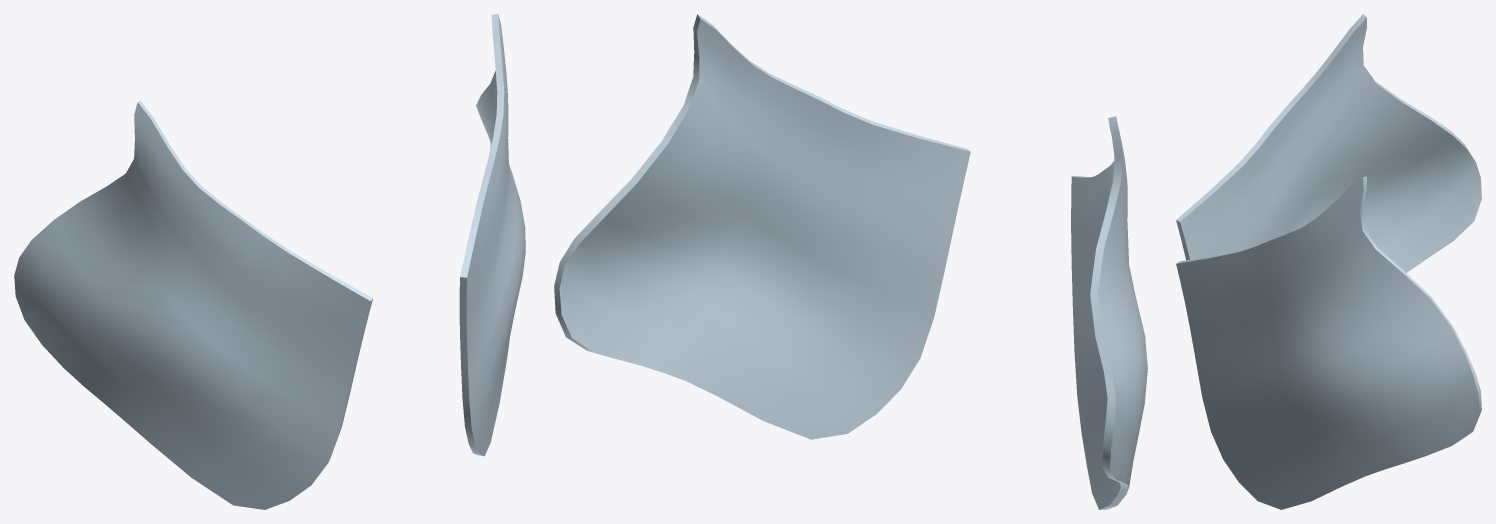
The model's file is ARF Kilt.fbx.
3 renders of one model, left to right at view 1: azimuth 30°, elevation 25°; view 2: azimuth 150°, elevation 25°; view 3: azimuth 270°, elevation 25°, orthographic. The views are drawn at different scales.
Visible parts, largest first — view 1: arfhelmet.001; view 2: arfhelmet.001; view 3: arfhelmet.001.
Part boxes in pixels (x1,y1,x2,y2): arfhelmet.001: (14,14,525,509); arfhelmet.001: (554,14,1147,509); arfhelmet.001: (1176,14,1481,509).
Size of the model in its own units: 1021 by 775 by 604.
